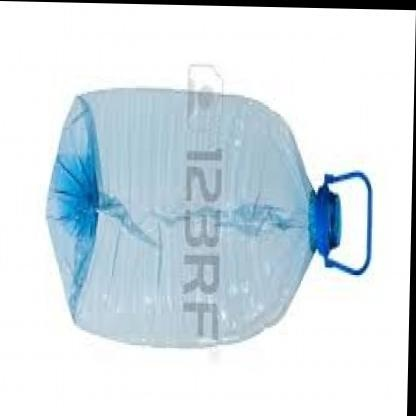trash: (47, 84, 371, 346), (328, 179, 367, 267)
